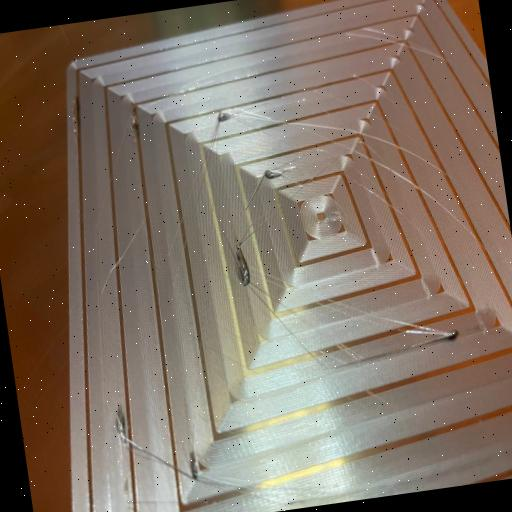blobs: (225, 232, 253, 293), (414, 324, 462, 350), (112, 408, 134, 443), (188, 446, 208, 482), (216, 104, 238, 132), (124, 107, 144, 137), (260, 164, 282, 188)
